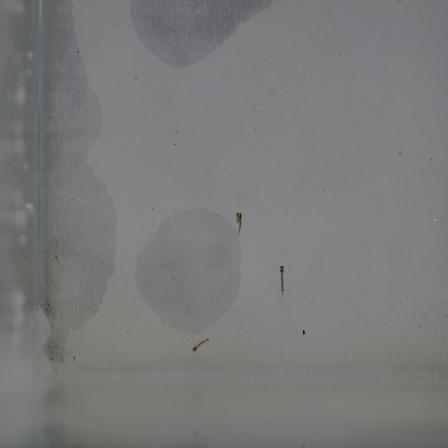Jentik-Nyamuk: (274, 259, 291, 302), (189, 334, 217, 355), (232, 209, 247, 239)
